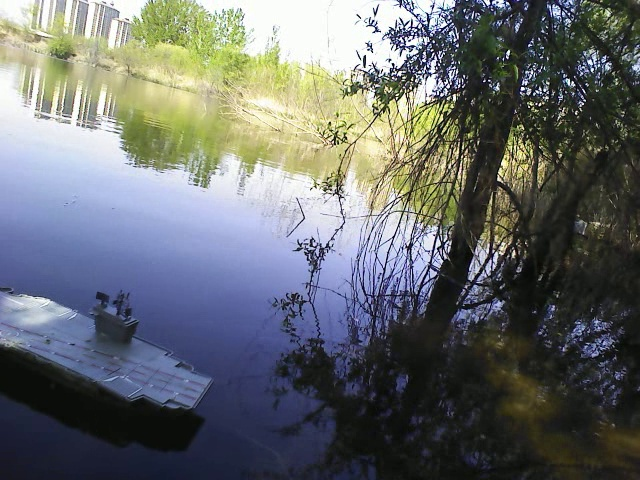aircraft_carrier: (3, 276, 218, 420)
